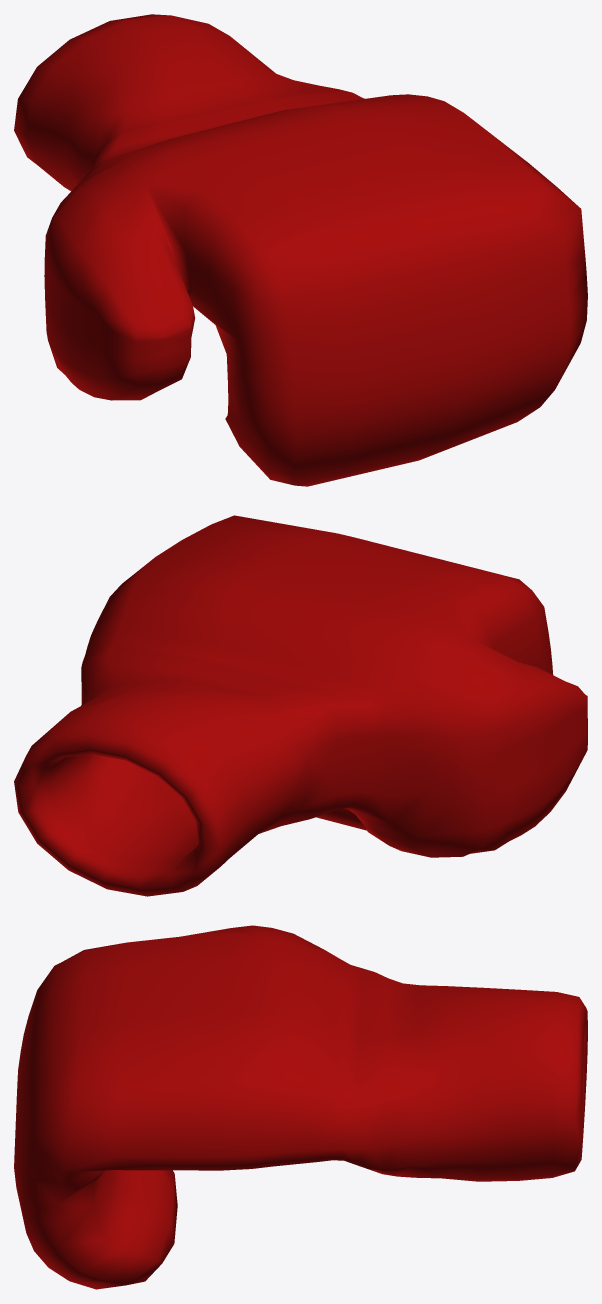
The model's file is BoxingGlove.FBX.
3 views of the same model, one above another, from view 1: azimuth 30°, elevation 25°; view 2: azimuth 150°, elevation 25°; view 3: azimuth 270°, elevation 25° (orthographic). The views are drawn at different scales.
Parts seen in each view (by area): view 1: BoxingGlove; view 2: BoxingGlove; view 3: BoxingGlove.
Part boxes in pixels (box(x1,y1,x2,y2)): BoxingGlove: box(14, 14, 587, 486); BoxingGlove: box(14, 515, 587, 896); BoxingGlove: box(14, 925, 587, 1289).
Size of the model in its own units: 63.26 by 39.77 by 78.34.
